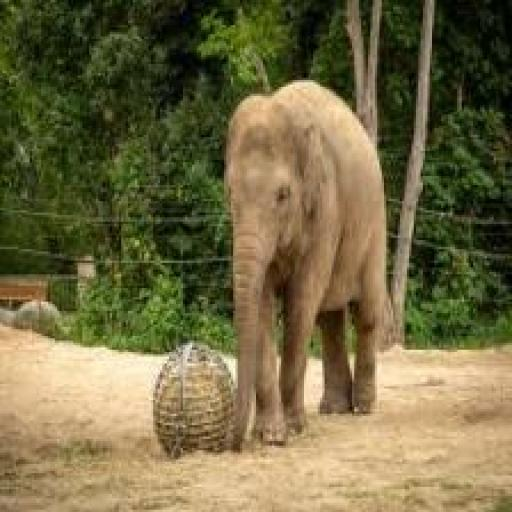Elephant: (222, 78, 396, 459)
